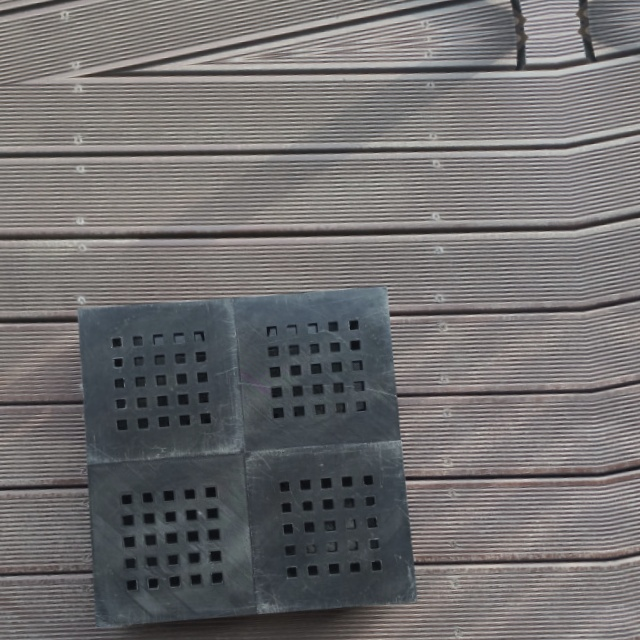pallet: (69, 279, 418, 636)
